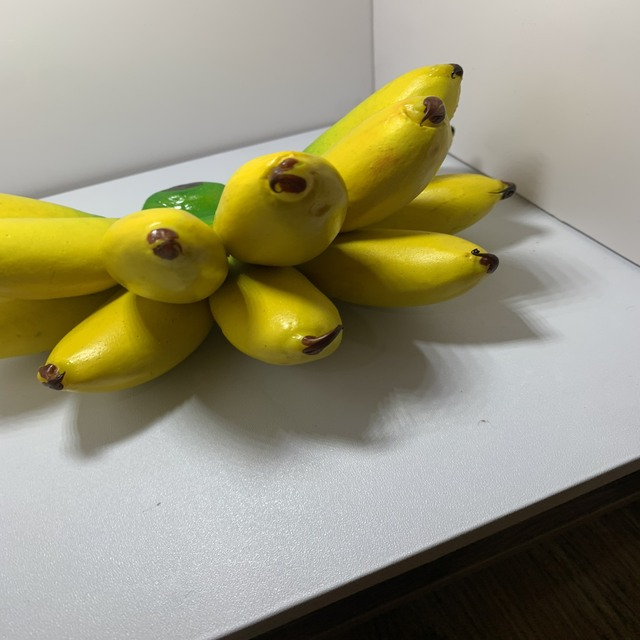Chuoi: (0, 57, 518, 396)
